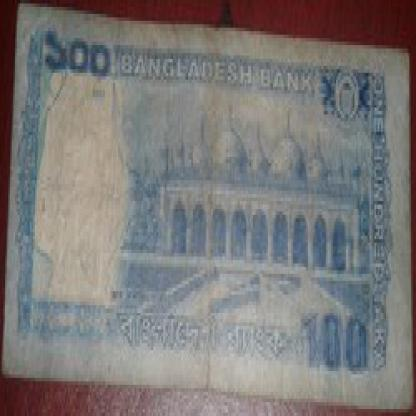one hundred taka: (296, 305, 371, 381), (42, 20, 114, 86)
